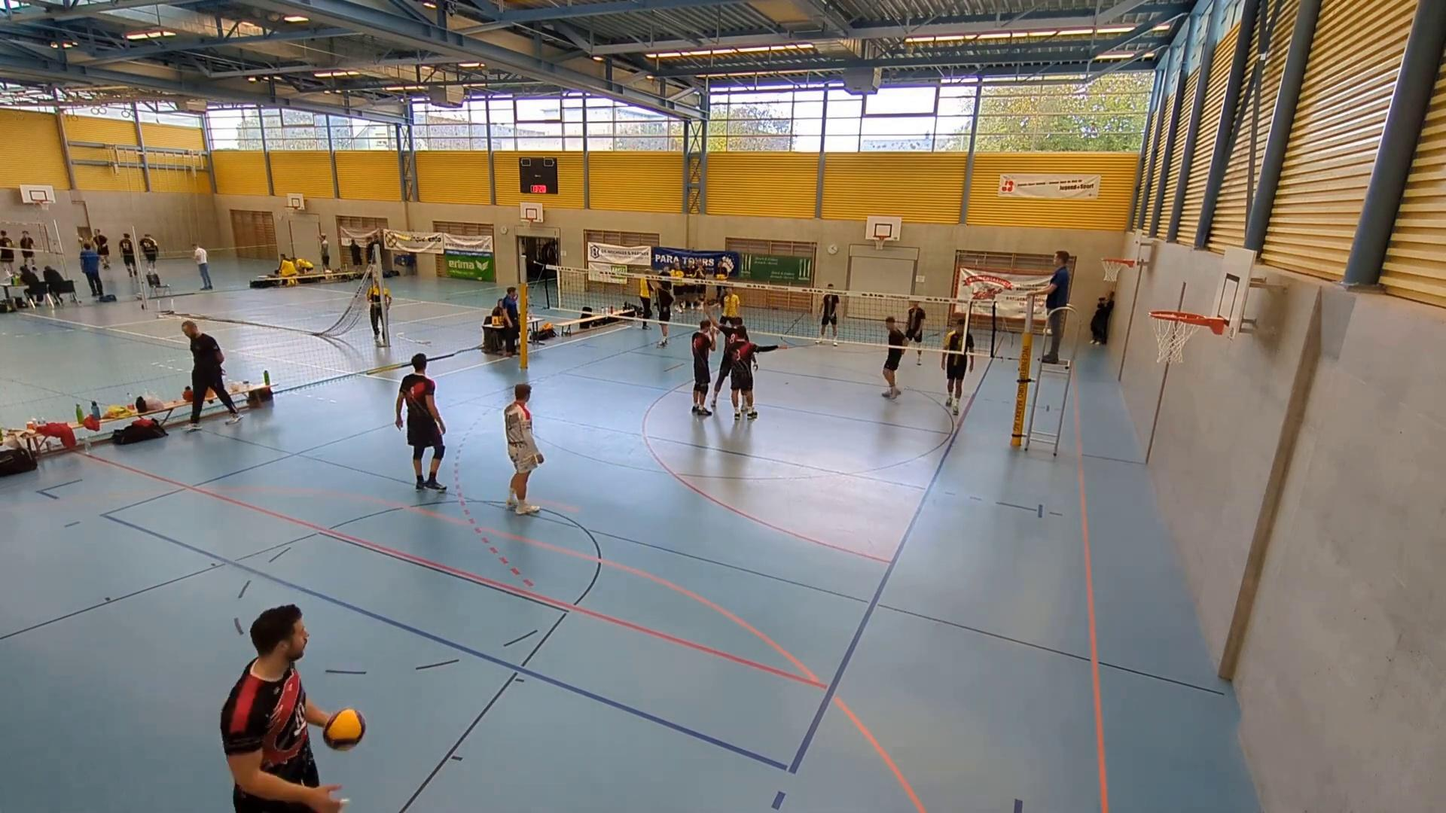Player: (217, 601, 349, 812), (395, 353, 446, 491), (705, 312, 758, 410), (505, 385, 544, 515), (724, 327, 778, 419), (940, 317, 971, 414), (689, 318, 717, 417), (881, 315, 906, 398), (817, 283, 841, 346), (906, 300, 928, 363), (654, 280, 673, 348), (722, 287, 743, 330)
ball: (322, 707, 365, 750)
